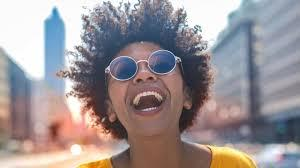Persons: (69, 2, 228, 144)
